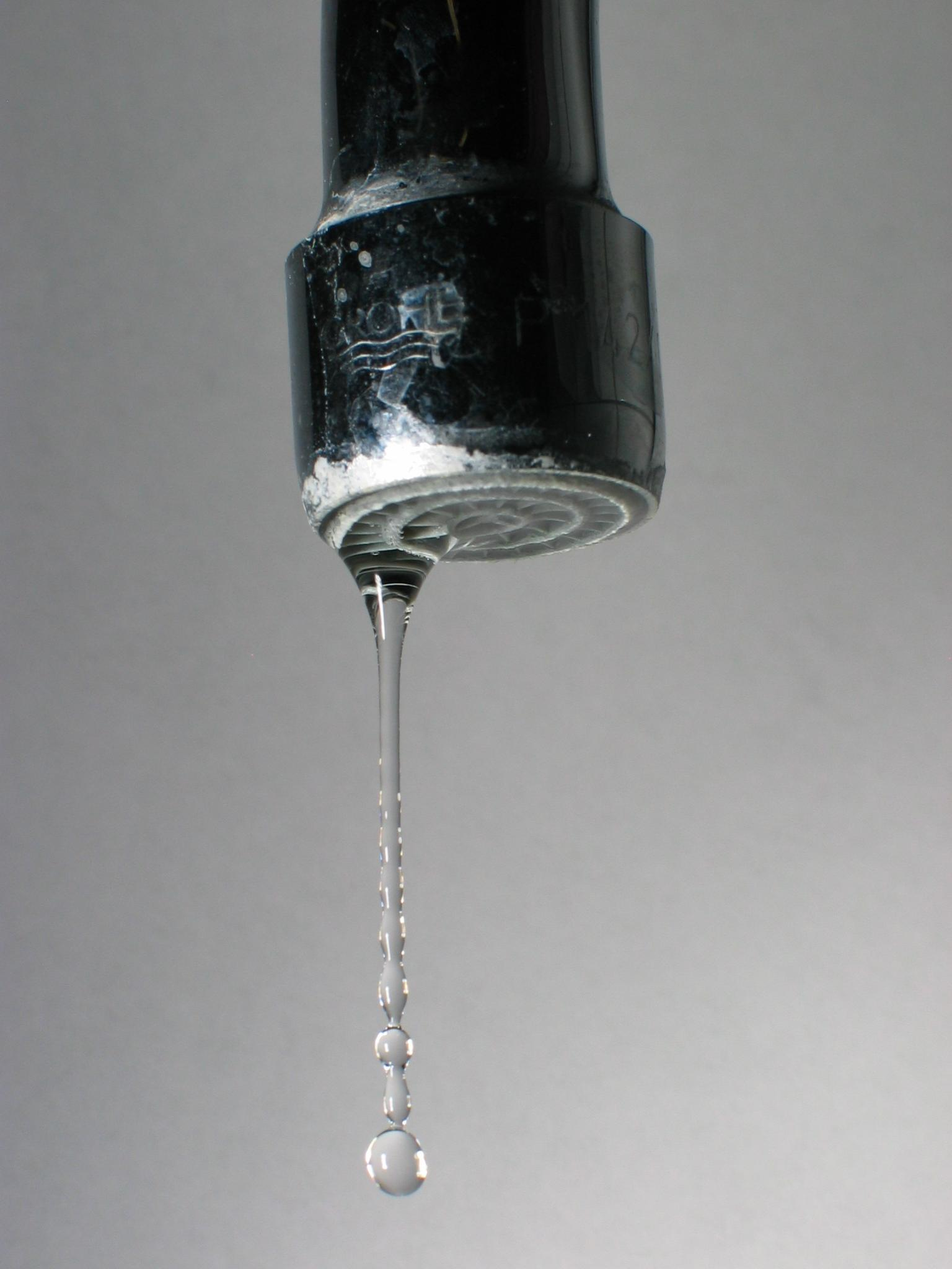water drop: (337, 531, 443, 1117), (361, 1125, 428, 1195)
